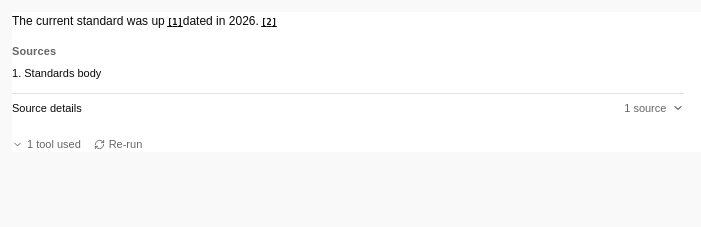
it: CopilotResponse › renders web answers with claim-adjacent and listed clickable citations
Expected: the number of list items is 1, [12, 67, 101, 79]
Expected: the text "Unclassified source · example.com" is not shown
Click the button "Source details 1 source" at (47, 108), box [12, 94, 684, 123]
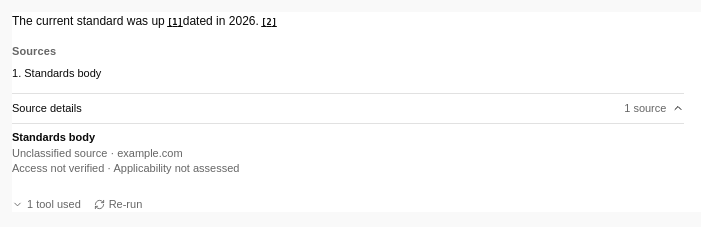
Expected: the text "Unclassified source · example.com" is shown, [12, 147, 183, 159]
Expected: the text "Access not verified · Applicability not assessed" is shown, [12, 162, 240, 174]
